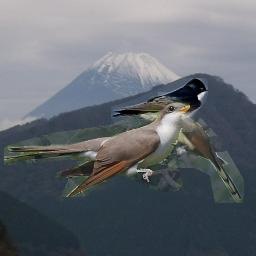Cuckoo: (4, 102, 190, 197), (158, 92, 244, 203)
Swallow: (111, 78, 208, 132)
